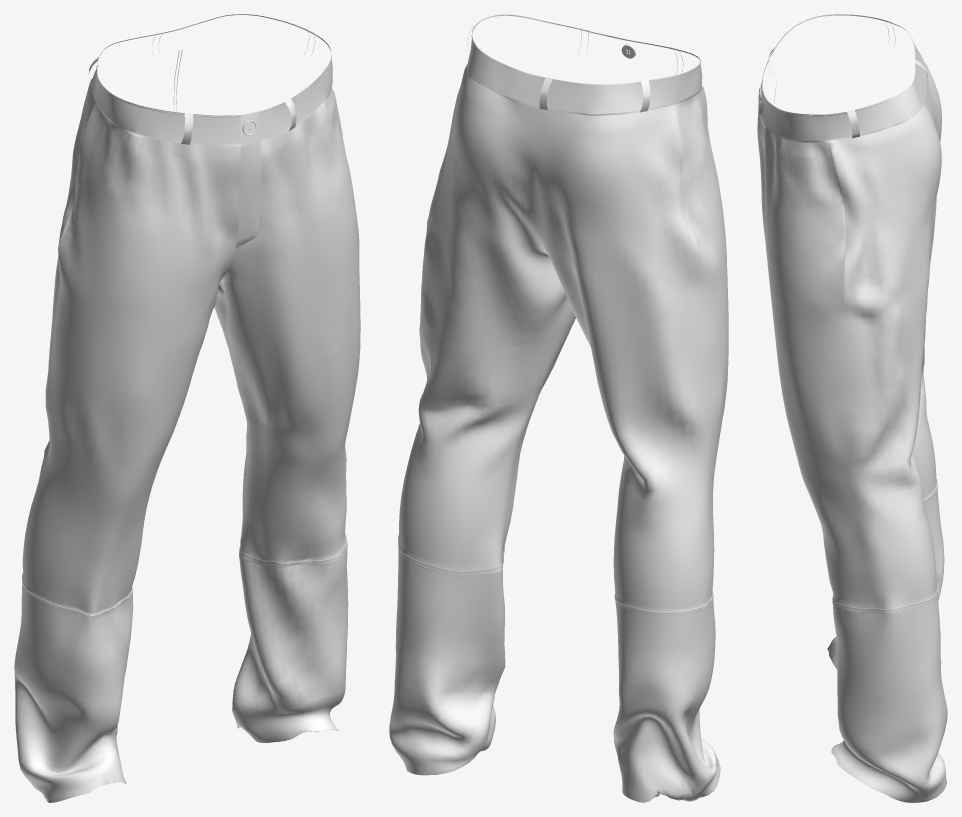
The model's file is Pants_Main.glb.
3 views of the same model, side by side, from view 1: azimuth 30°, elevation 25°; view 2: azimuth 150°, elevation 25°; view 3: azimuth 270°, elevation 25° (orthographic). The views are drawn at different scales.
Visible parts, largest first — view 1: Pants_Main.001, Pants_Rope.001; view 2: Pants_Main.001, Pants_Rope.001; view 3: Pants_Main.001, Pants_Rope.001.
Part boxes in pixels (<box>): Pants_Main.001: <box>14,53,360,802</box>; Pants_Rope.001: <box>22,14,347,617</box>; Pants_Main.001: <box>389,35,728,802</box>; Pants_Rope.001: <box>398,14,713,614</box>; Pants_Main.001: <box>757,35,947,802</box>; Pants_Rope.001: <box>758,14,937,613</box>.
Size of the model in its own units: 0.8258 by 1.83 by 0.4628.
Materials: 3 (3 with a texture image).
